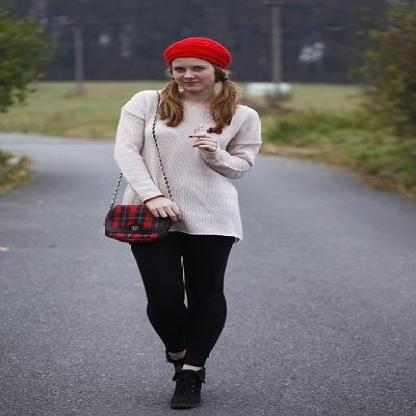bag: (103, 194, 191, 240)
hat: (164, 37, 230, 67)
jacket: (108, 92, 263, 239)
pants: (121, 232, 239, 370)
shoe: (169, 365, 205, 410)
